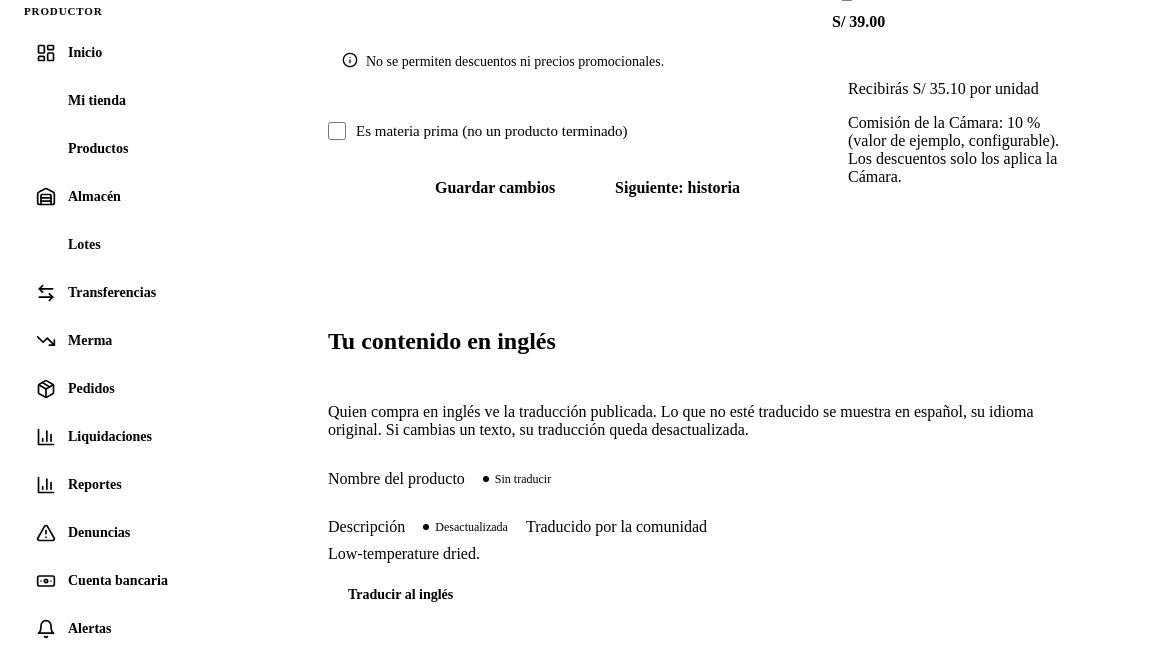
Test: PW-04 Traducir el producto (CCPIP-147) › traduce al inglés, deja revisar y publica solo lo corregido
(page scrolled)
Expected: the text "Sin traducir" is shown, [483,472,551,486]
Expected: the text "Desactualizada" is shown, [423,520,508,534]
Click the button "Traducir al inglés" at (401, 594), box [328,574,473,614]
(page scrolled)
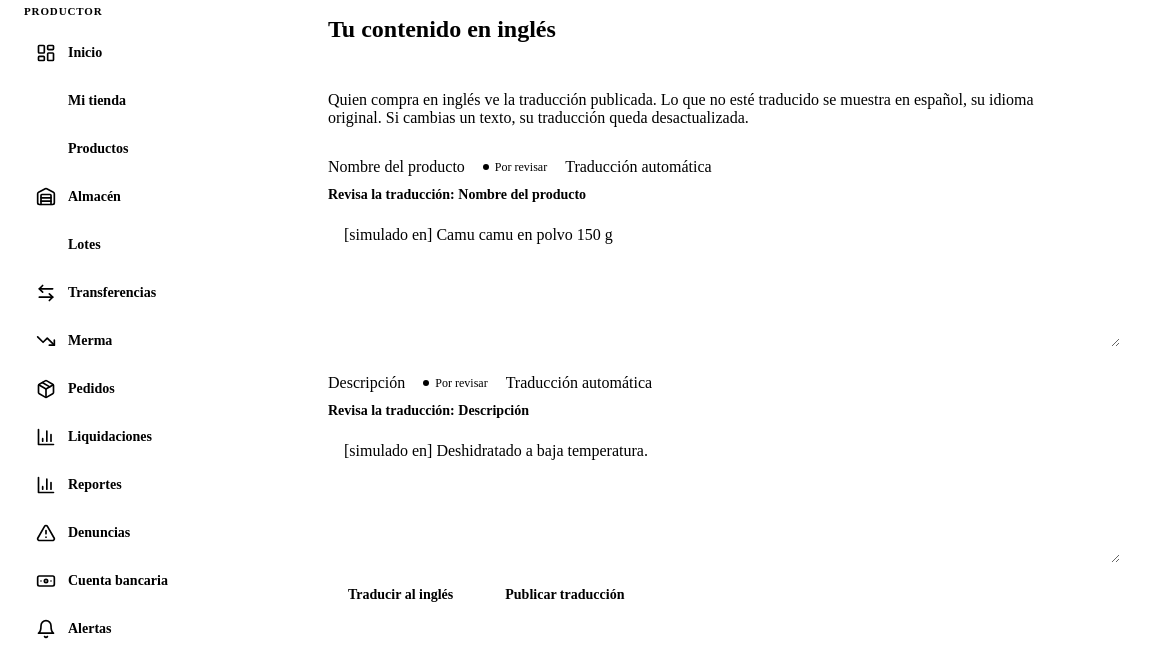
Expected: the text "Por revisar" is shown 2 times, [483,160,547,174]; [423,376,488,390]
Expected: the text box labelled "Revisa la traducción: Descripción" holds "[simulado en] Deshidratado a baja temperatura."
Clear the text box labelled "Revisa la traducción: Descripción" at (724, 494), box [328,426,1120,562]
(page scrolled)
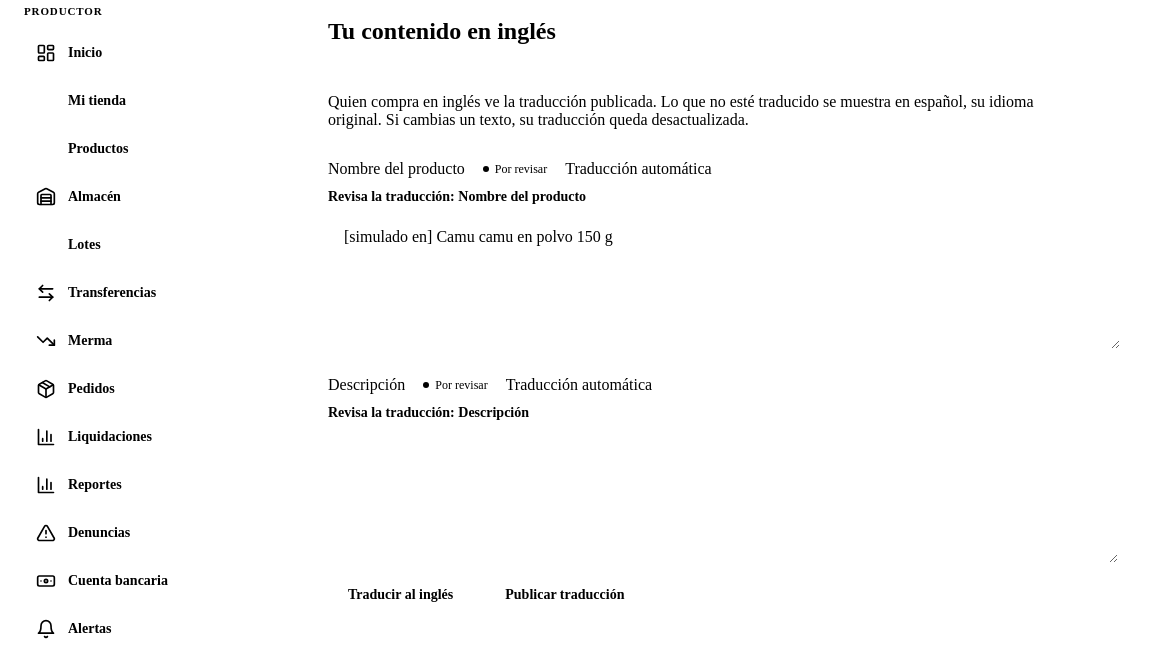
Type "Dried at low temperature." into the text box labelled "Revisa la traducción: Descripción" at (723, 496), box [328,428,1118,562]
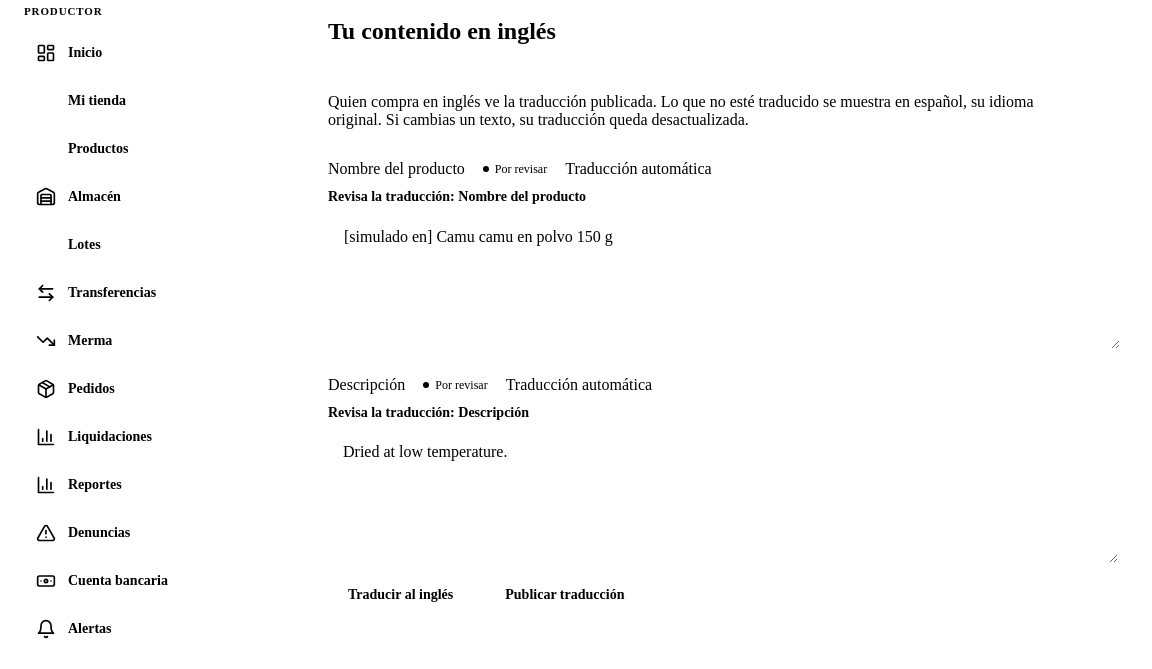
Click the button "Publicar traducción" at (565, 594), box [485,574,644,614]
(page scrolled)
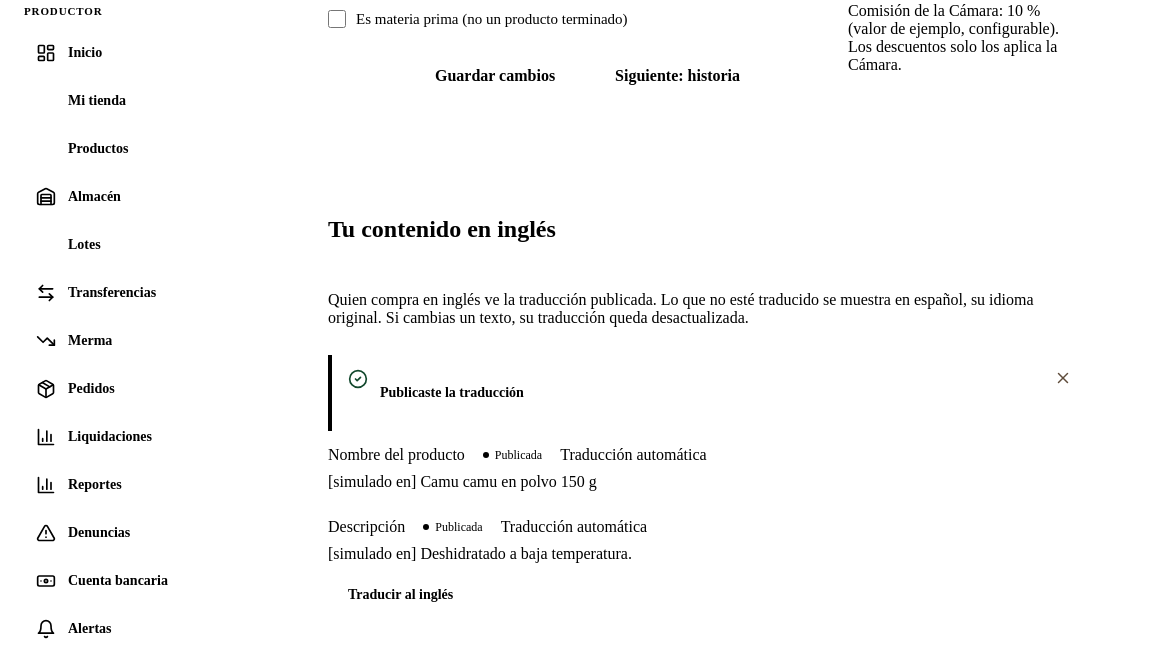
Expected: the text "Publicada" is shown 2 times, [483,448,542,462]; [423,520,483,534]
Expected: the text "Publicaste la traducción" is shown, [380,384,524,400]
